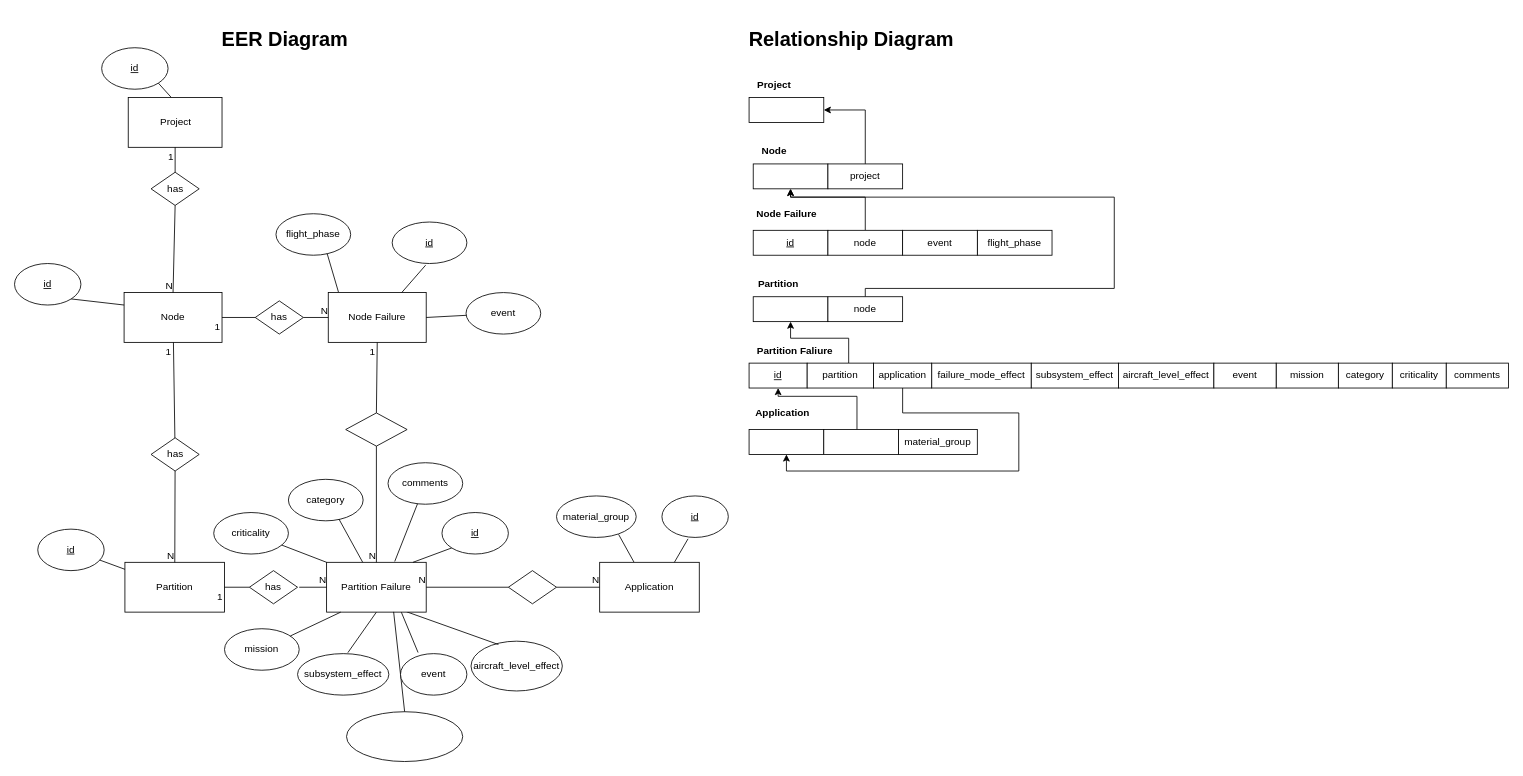
Some shapes in this 1523 by 776 pixel diagram are drawn without their labels. The centre of each missing label's shape, as x and y in pixels:
"application_id" goes at (786,441).
"in" goes at (532,587).
"node_id" goes at (790,176).
"partition_failure" goes at (860,441).
"partition_id" goes at (790,309).
"preflight_failure_detection" goes at (404,736).
"project_id" goes at (786,109).
"relates to" goes at (376,429).
